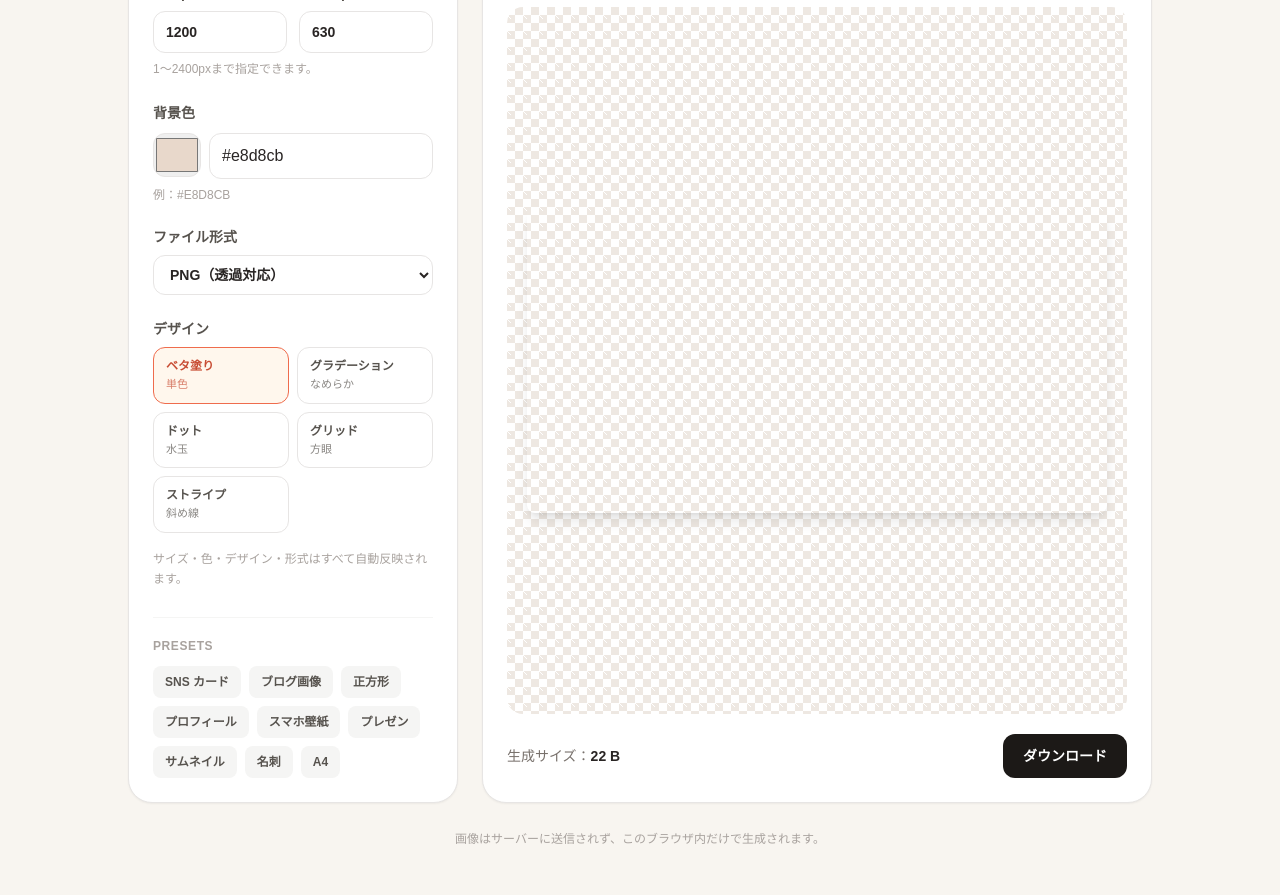
Test: DummyImageGenerator › プリセットでサイズを変更できる
(page scrolled)
Click the button "正方形": [371, 682] box top-left (341, 666), bottom-right (401, 698)
(page scrolled)
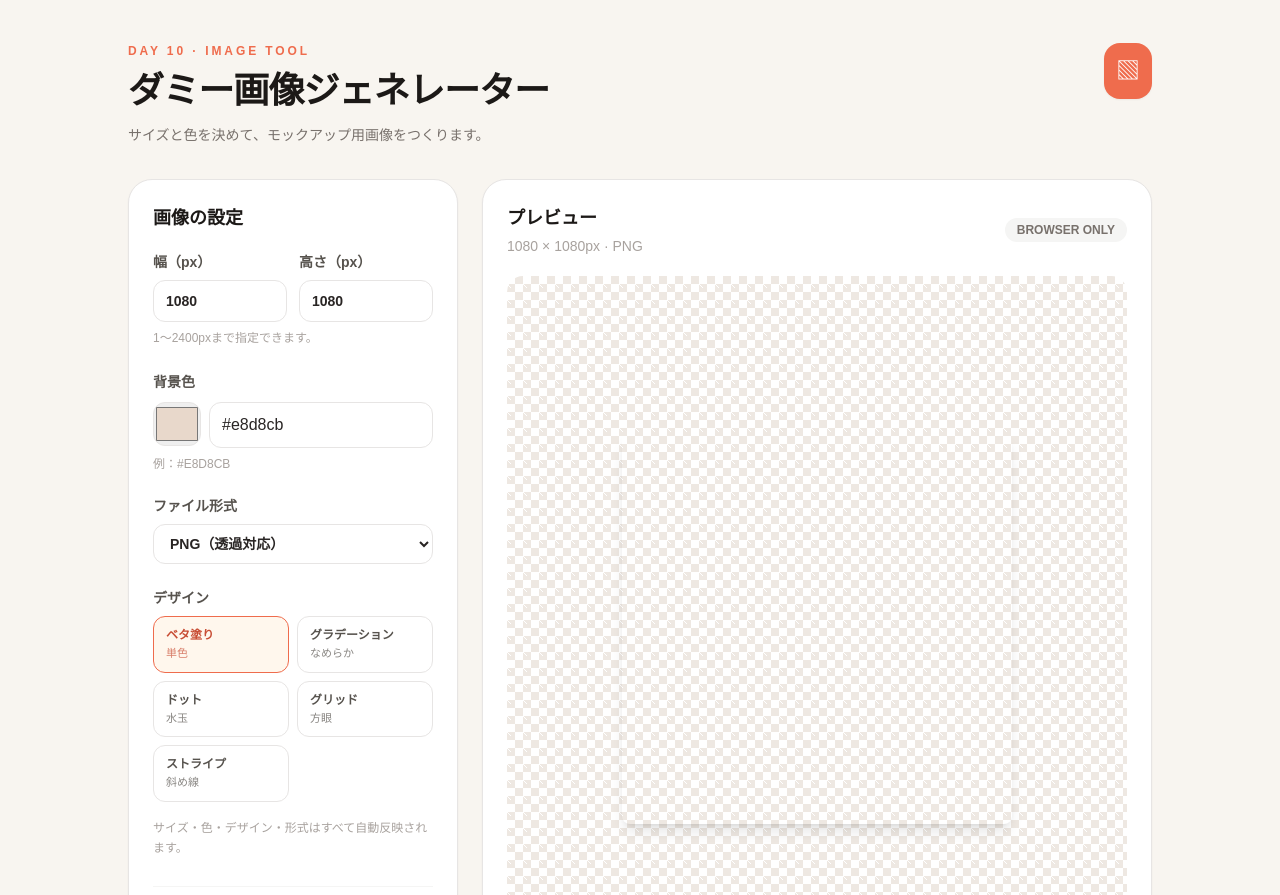
Expected: the number of number fields showing "1080" is 2, top-left (153, 280), bottom-right (287, 322); top-left (299, 280), bottom-right (433, 322)
Result: the text "1080 × 1080px · PNG" is shown at top-left (507, 236), bottom-right (643, 256)
